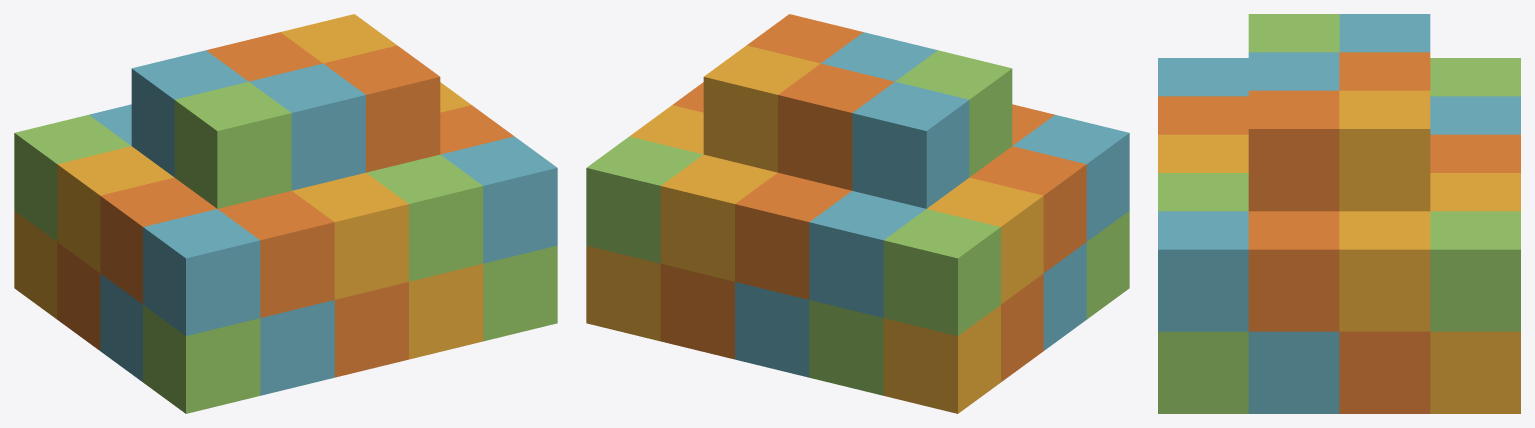
File: cube_pile.glb
3 views of the same model, side by side, from view 1: azimuth 30°, elevation 25°; view 2: azimuth 150°, elevation 25°; view 3: azimuth 270°, elevation 25° (orthographic). The views are drawn at different scales.
Visible parts, largest first — view 1: cube_pile; view 2: cube_pile; view 3: cube_pile.
Part boxes in pixels (bbox=[...]): cube_pile: bbox=[14, 14, 557, 413]; cube_pile: bbox=[586, 14, 1129, 413]; cube_pile: bbox=[1158, 14, 1520, 413].
Size of the model in its own units: 1.25 by 0.75 by 1.
